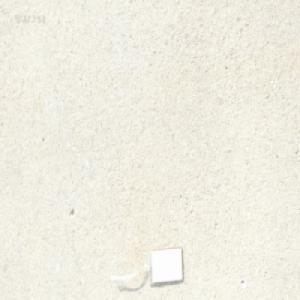LuggageTag: (104, 244, 181, 286)
